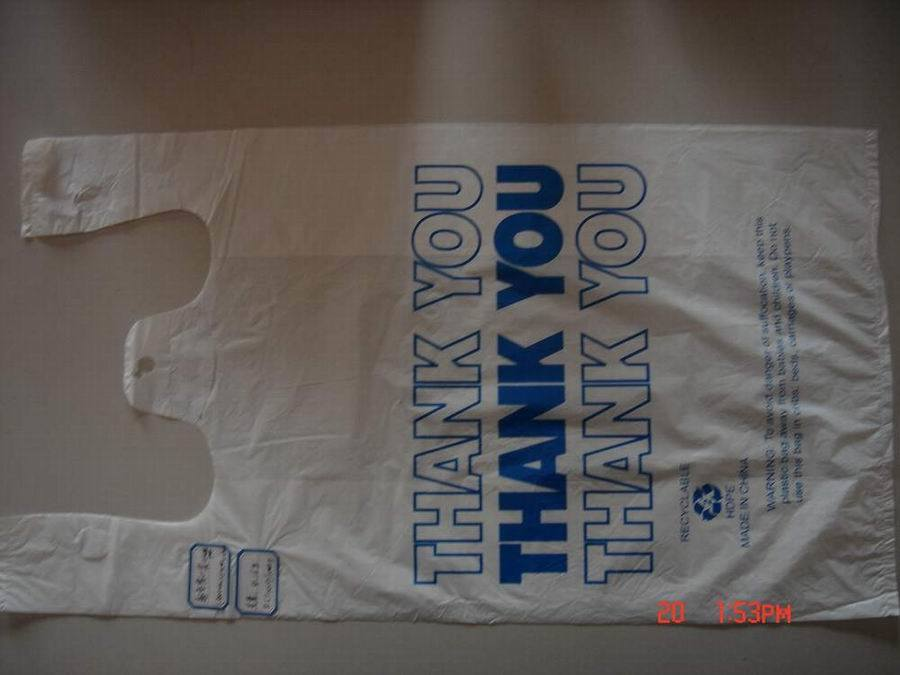plastic bag: (1, 123, 899, 626)
